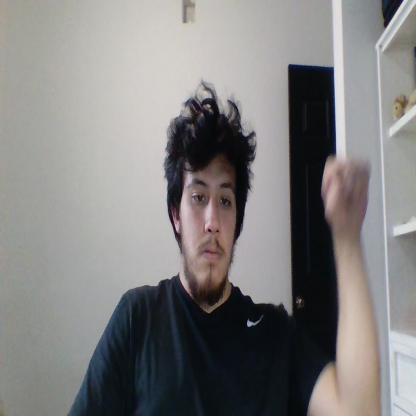S: (322, 156, 370, 232)
